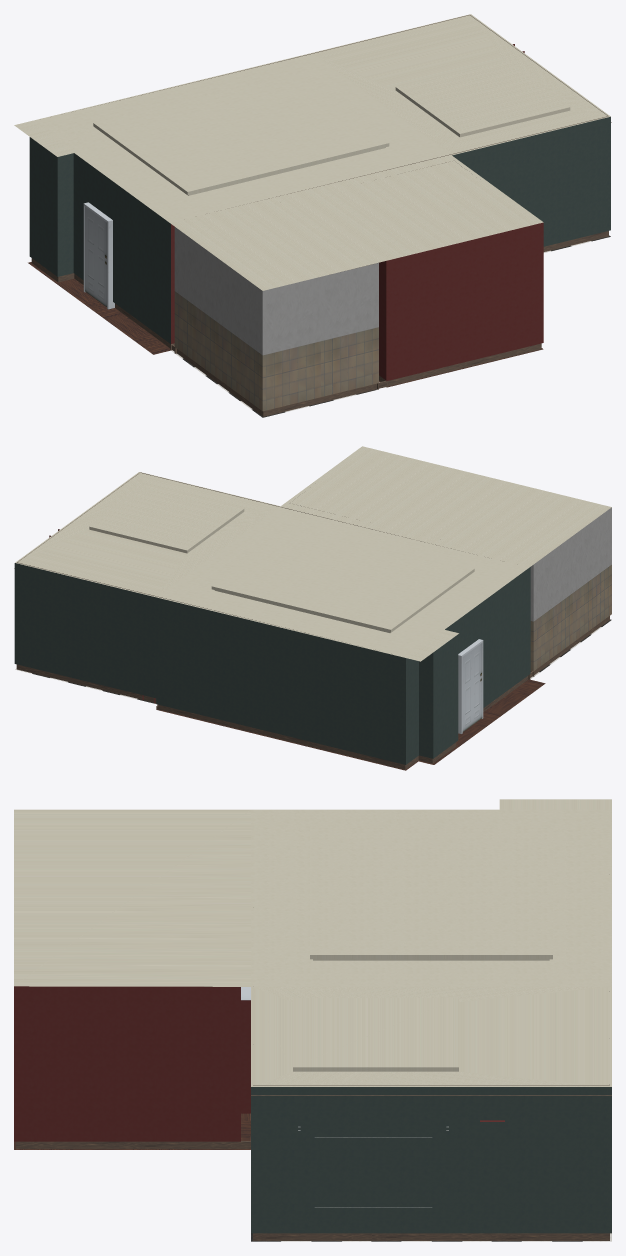
3 views of the same model, one above another, from view 1: azimuth 30°, elevation 25°; view 2: azimuth 150°, elevation 25°; view 3: azimuth 270°, elevation 25° (orthographic). The views are drawn at different scales.
Parts seen in each view (by area): view 1: apartmentCeiling, apartmentWalls, apartmentBathroom, apartmentBedroom, apartmentBaseboard.001, apartmentFloor, apartmentDoor.002, apartmentDoorFrame.002, apartmentBaseboard.002; view 2: apartmentCeiling, apartmentWalls, apartmentBathroom, apartmentBaseboard.001, apartmentFloor, apartmentDoor.002, apartmentDoorFrame.002, apartmentBaseboard.002; view 3: apartmentCeiling, apartmentWalls, apartmentBedroom, apartmentBaseboard.001, apartmentlivingRoomWall, apartmentFloor, apartmentBaseboard.002.
Boxes of the visible parts, x1,y1,x2,y2 form: apartmentCeiling: (14, 14, 610, 290); apartmentWalls: (29, 116, 610, 343); apartmentBathroom: (174, 227, 378, 411); apartmentBedroom: (379, 222, 543, 381); apartmentBaseboard.001: (31, 231, 608, 416); apartmentFloor: (28, 235, 610, 417); apartmentDoor.002: (85, 207, 106, 306); apartmentDoorFrame.002: (83, 202, 114, 309); apartmentBaseboard.002: (109, 15, 611, 201); apartmentCeiling: (15, 446, 611, 661); apartmentWalls: (14, 563, 530, 764); apartmentBathroom: (530, 507, 611, 671); apartmentBaseboard.001: (16, 616, 609, 769); apartmentFloor: (15, 619, 611, 770); apartmentDoor.002: (462, 643, 482, 731); apartmentDoorFrame.002: (458, 639, 483, 733); apartmentBaseboard.002: (14, 472, 451, 636); apartmentCeiling: (14, 799, 611, 1086); apartmentWalls: (251, 1087, 611, 1233); apartmentBedroom: (14, 986, 240, 1141); apartmentBaseboard.001: (16, 1141, 609, 1240); apartmentlivingRoomWall: (241, 1000, 250, 1113); apartmentFloor: (14, 1113, 611, 1241); apartmentBaseboard.002: (251, 991, 611, 1095).
Bounding box in the file's own units: 11.48 × 3.15 × 10.03.
11 materials, 11 textured.
